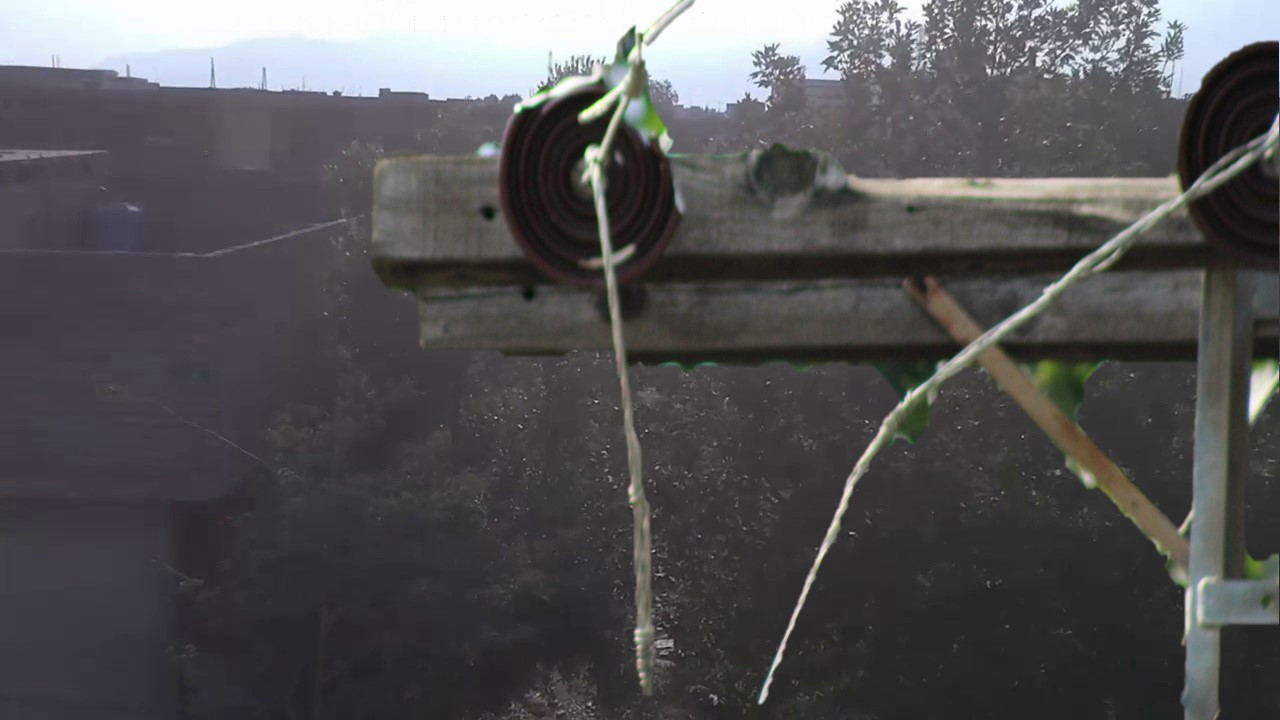defect_disc: (495, 62, 692, 296)
